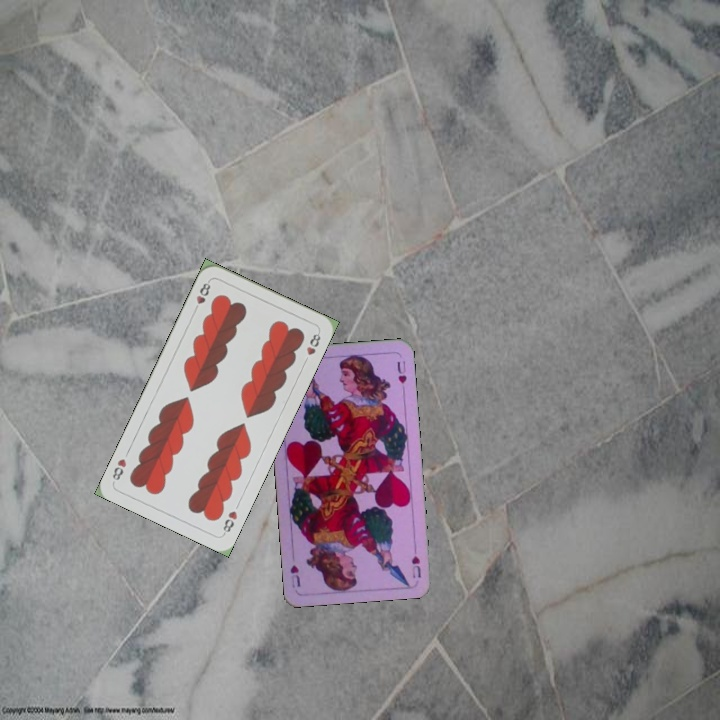H8: (190, 277, 213, 315), (219, 507, 240, 537)
HU: (407, 541, 424, 581)
